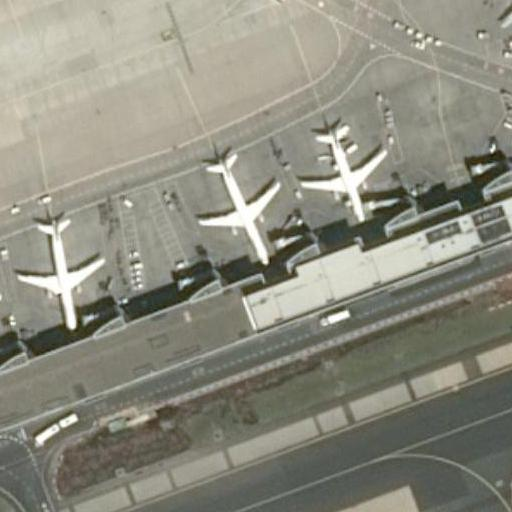Aircraft: (183, 129, 280, 265), (20, 208, 112, 334), (296, 109, 397, 219), (458, 0, 512, 41), (0, 273, 8, 381)
